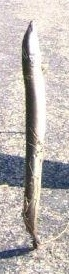Anguilla anguilla: (20, 20, 49, 254)
